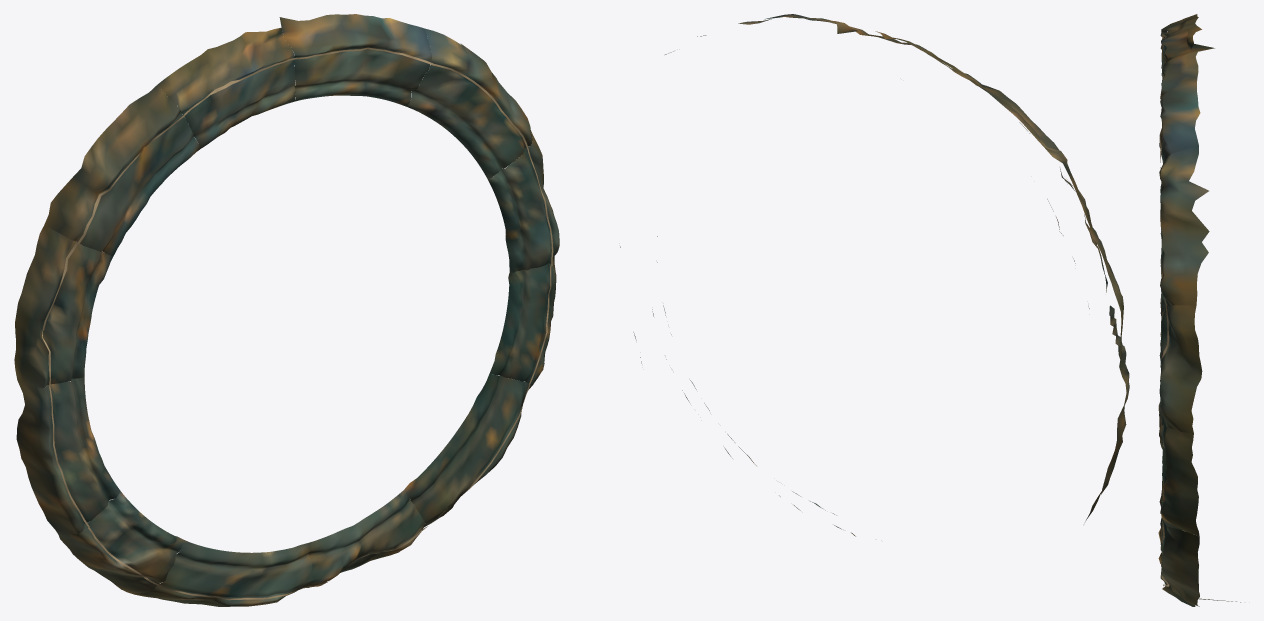
The model's file is moon-rim-handcut-relief.glb.
3 renders of one model, left to right at view 1: azimuth 30°, elevation 25°; view 2: azimuth 150°, elevation 25°; view 3: azimuth 270°, elevation 25°, orthographic. The views are drawn at different scales.
Visible parts, largest first — view 1: ChiseledStone, WeatheredInlay; view 2: ChiseledStone; view 3: ChiseledStone, WeatheredInlay.
Boxes of the visible parts, x1=… form: ChiseledStone: x1=14, y1=14, x2=559, y2=606; WeatheredInlay: x1=42, y1=47, x2=553, y2=600; ChiseledStone: x1=620, y1=14, x2=1129, y2=536; ChiseledStone: x1=1158, y1=14, x2=1240, y2=606; WeatheredInlay: x1=1159, y1=34, x2=1169, y2=586.
Size of the model in its own units: 2.08 by 2.11 by 0.33.
